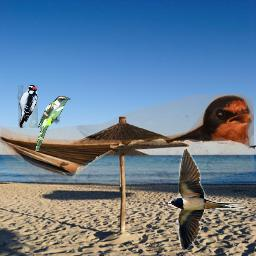Cuckoo: (35, 96, 71, 151)
Swallow: (0, 93, 254, 185), (168, 147, 246, 253)
Woodpecker: (17, 85, 38, 128)
